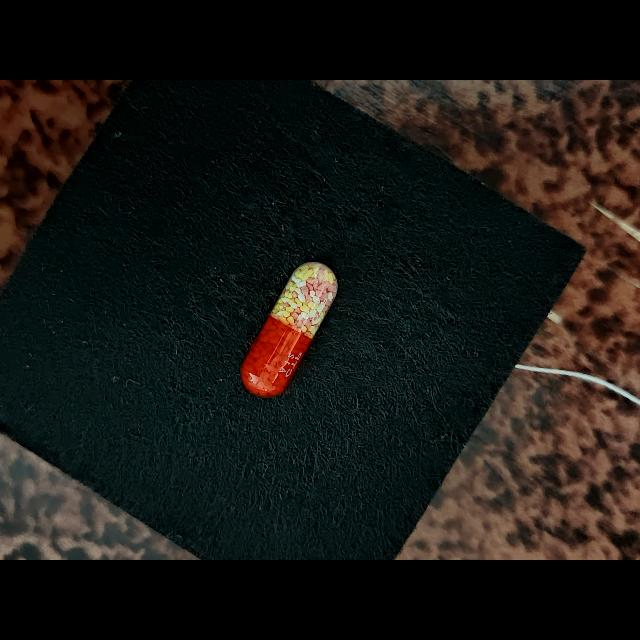Intact Capsule: (241, 262, 338, 397)
